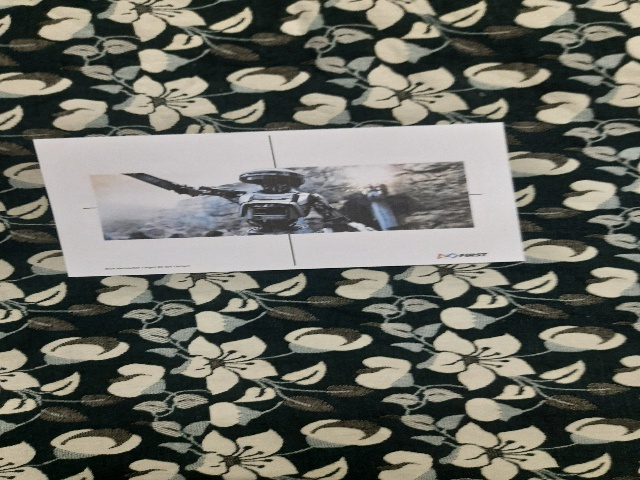bpt2: (62, 152, 505, 254)
